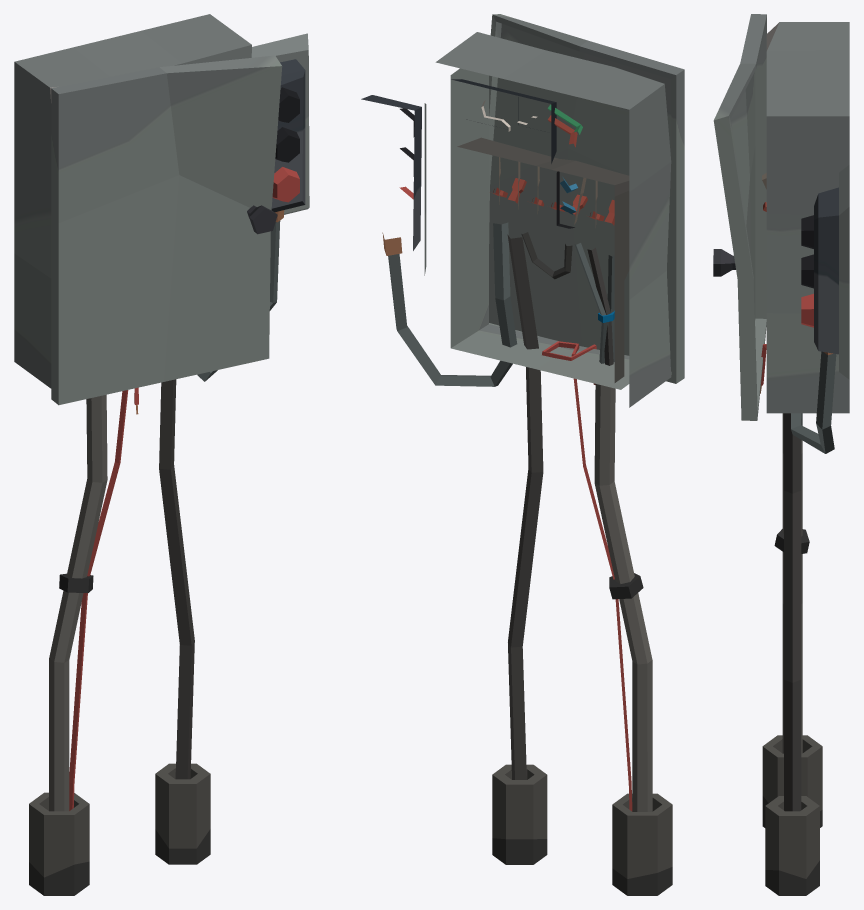
File: SM_Switch_Box.gltf
The picture shows the model from 3 angles, left to right: view 1: azimuth 30°, elevation 25°; view 2: azimuth 150°, elevation 25°; view 3: azimuth 270°, elevation 25°; orthographic projection.
Parts seen in each view (by area): view 1: SM_Switch_Box_Door, SM_Switch_Box; view 2: SM_Switch_Box, SM_Switch_Box_Door; view 3: SM_Switch_Box, SM_Switch_Box_Door.
Part boxes in pixels (bbox=[...]): SM_Switch_Box_Door: bbox=[51, 55, 282, 405]; SM_Switch_Box: bbox=[14, 14, 309, 895]; SM_Switch_Box: bbox=[361, 32, 672, 895]; SM_Switch_Box_Door: bbox=[489, 14, 684, 383]; SM_Switch_Box: bbox=[760, 22, 849, 895]; SM_Switch_Box_Door: bbox=[713, 14, 766, 420].
Size of the model in its own units: 0.7172 by 1.85 by 0.2859.
Materials: 1 (1 with a texture image).
